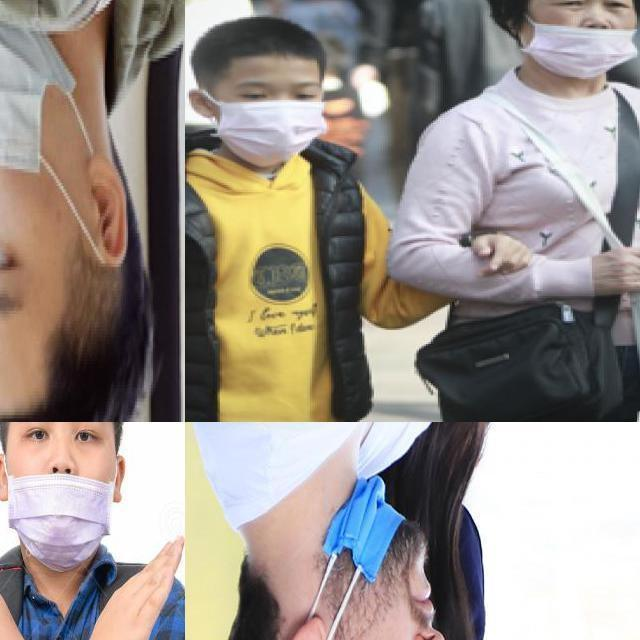hairnet: (14, 452, 110, 568), (538, 17, 633, 74)
